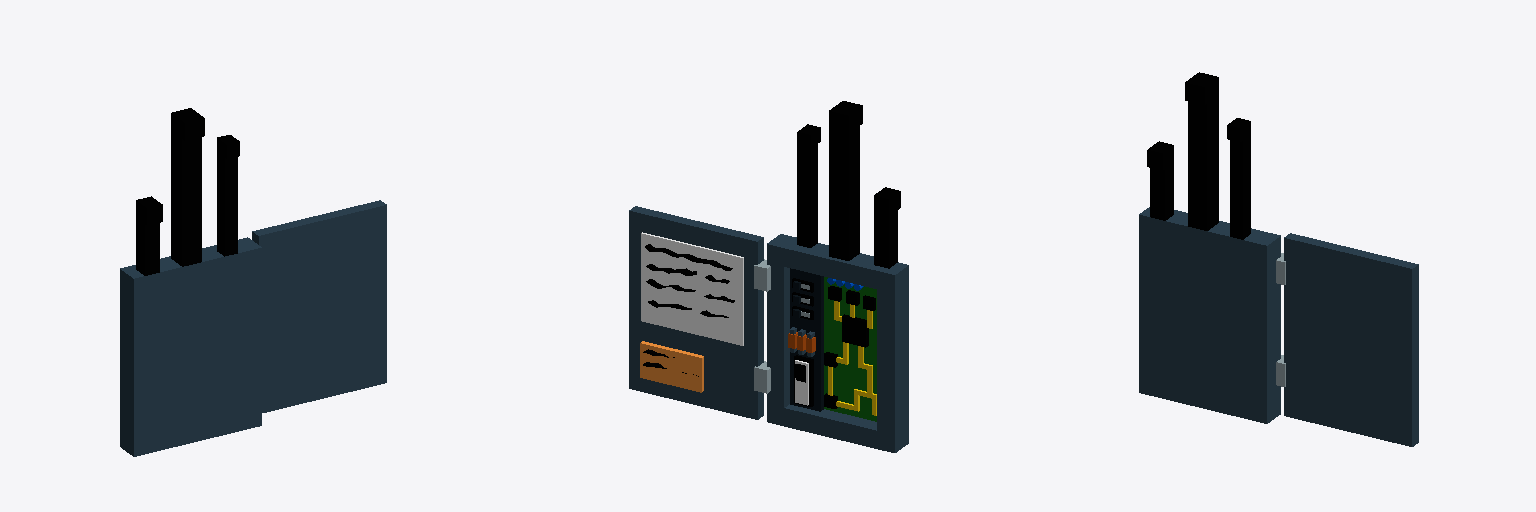
3 views of the same model, side by side, from view 1: azimuth 30°, elevation 25°; view 2: azimuth 150°, elevation 25°; view 3: azimuth 330°, elevation 25° (orthographic).
Visible parts, largest first — view 1: group[number redacted], group[number redacted]; view 2: group[number redacted], group[number redacted]; view 3: group[number redacted], group[number redacted].
Part boxes in pixels (bbox=[...]): group[number redacted]: bbox=[120, 108, 261, 456]; group[number redacted]: bbox=[252, 200, 386, 412]; group[number redacted]: bbox=[754, 101, 908, 452]; group[number redacted]: bbox=[629, 206, 763, 419]; group[number redacted]: bbox=[1139, 72, 1285, 423]; group[number redacted]: bbox=[1284, 233, 1418, 446].
Size of the model in its own units: 1.19 by 1.4 by 0.1883.